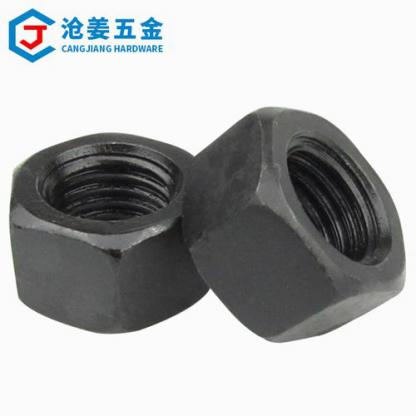FOD: (176, 100, 408, 346), (5, 126, 219, 337)
